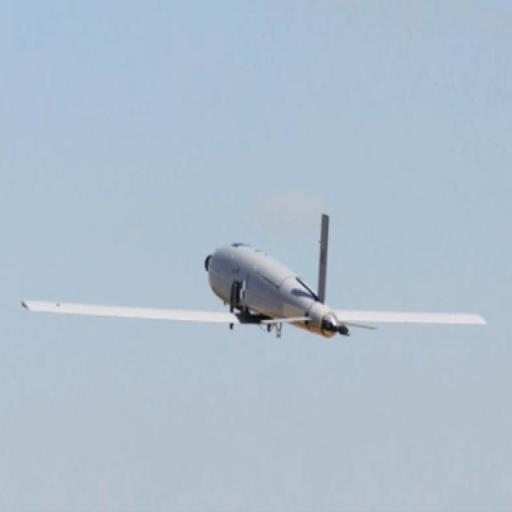uav: (14, 190, 492, 360)
